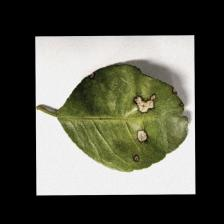canker: (80, 63, 192, 163)
